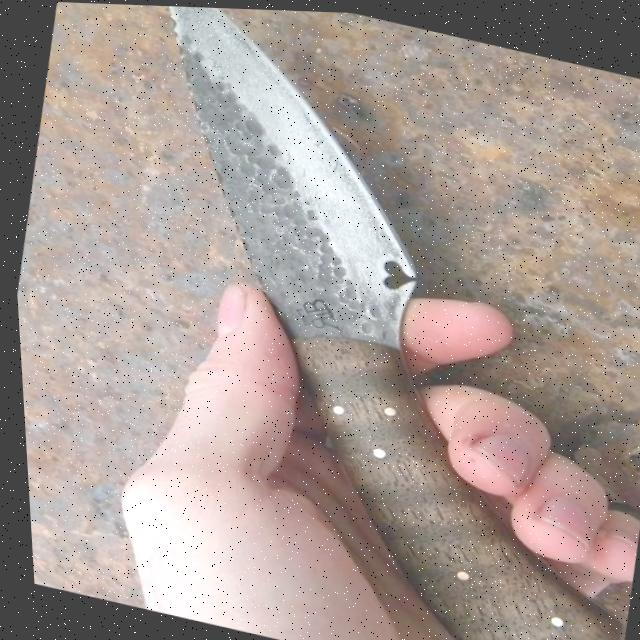knife: (41, 1, 640, 640)
